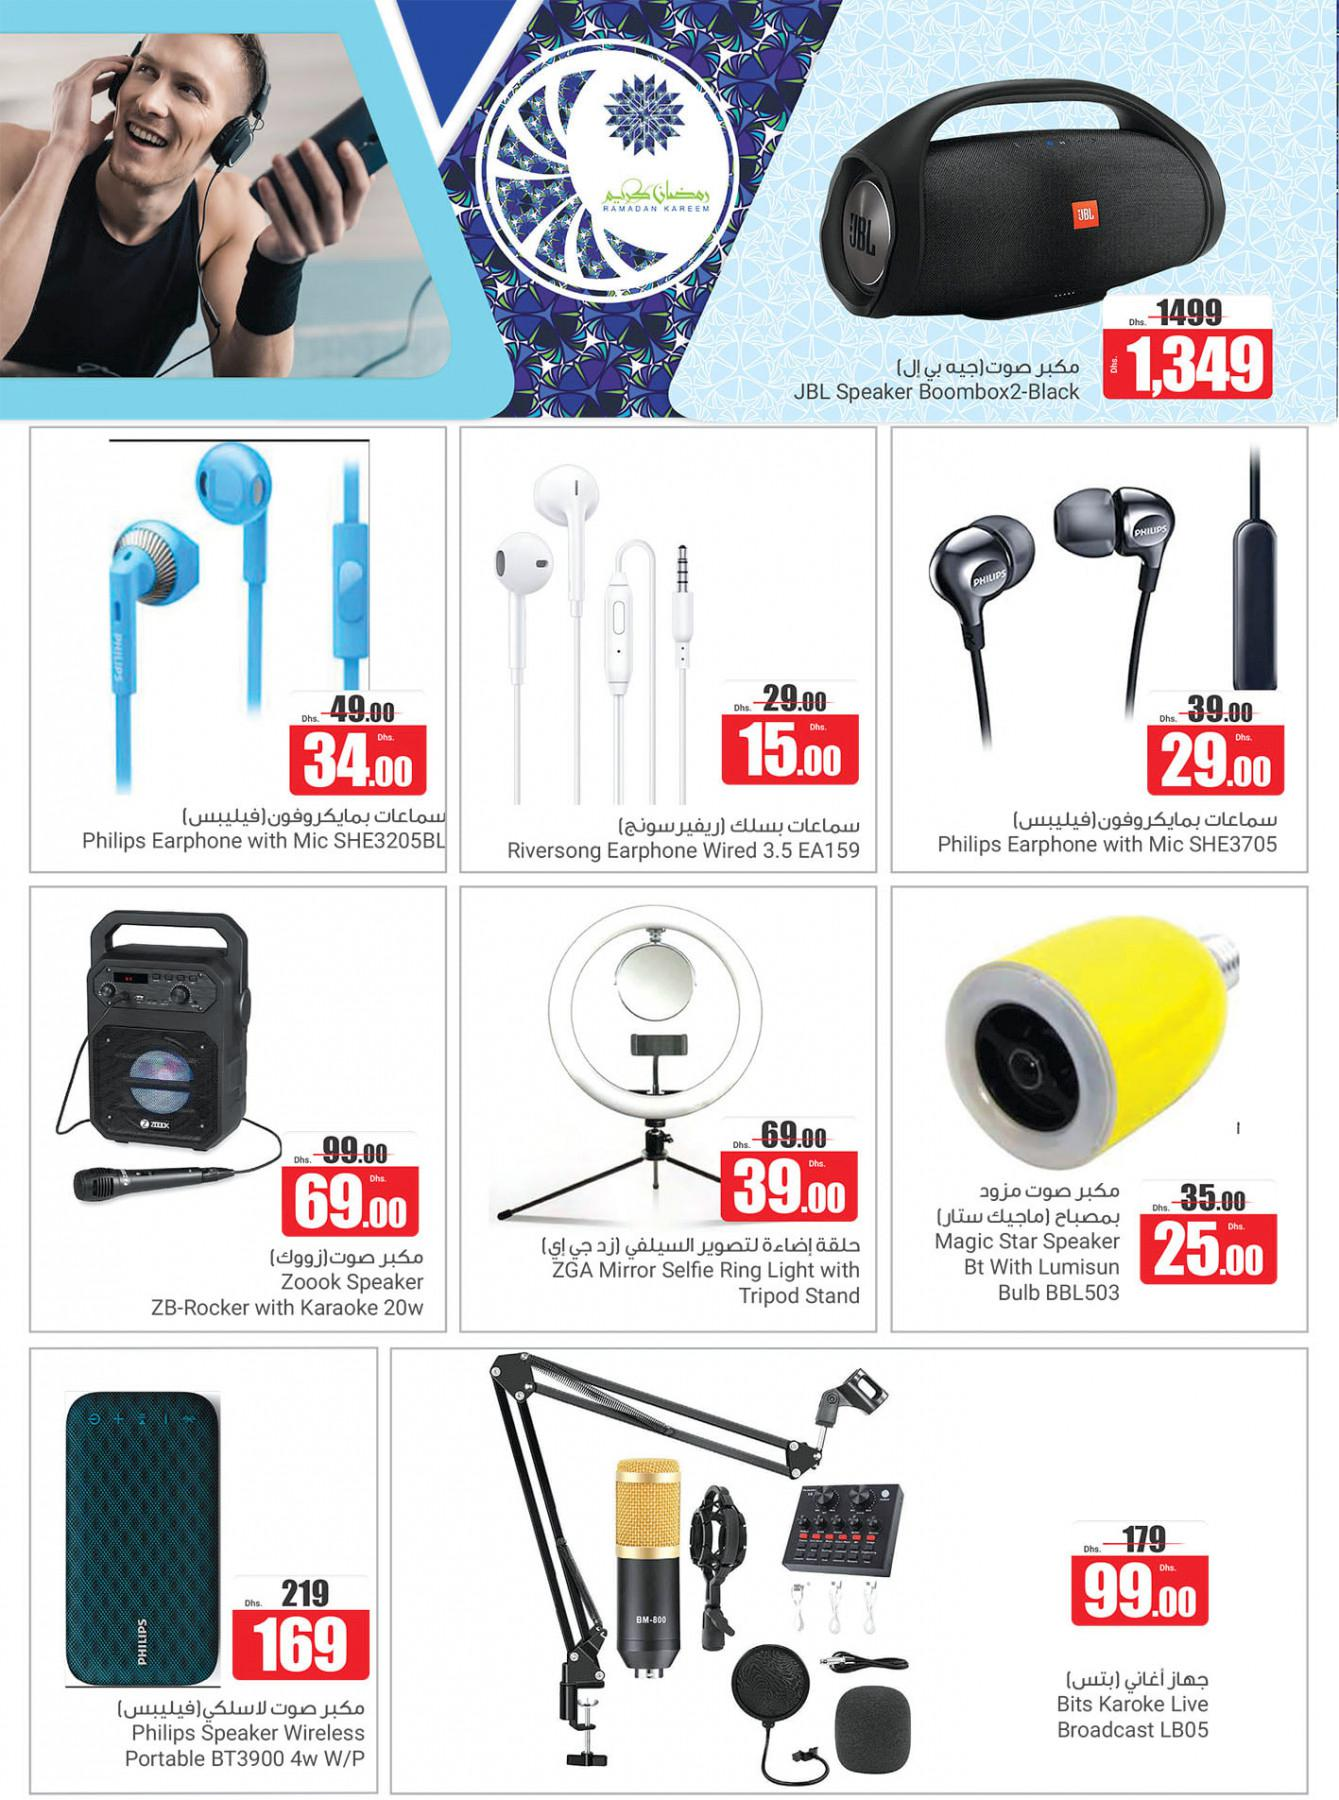text: (532, 1226, 871, 1318), (72, 790, 456, 868), (925, 1171, 1132, 1312), (495, 809, 878, 875), (928, 799, 1293, 868), (139, 1240, 437, 1323), (105, 1690, 376, 1779), (782, 345, 1089, 413), (1044, 1657, 1219, 1754)
